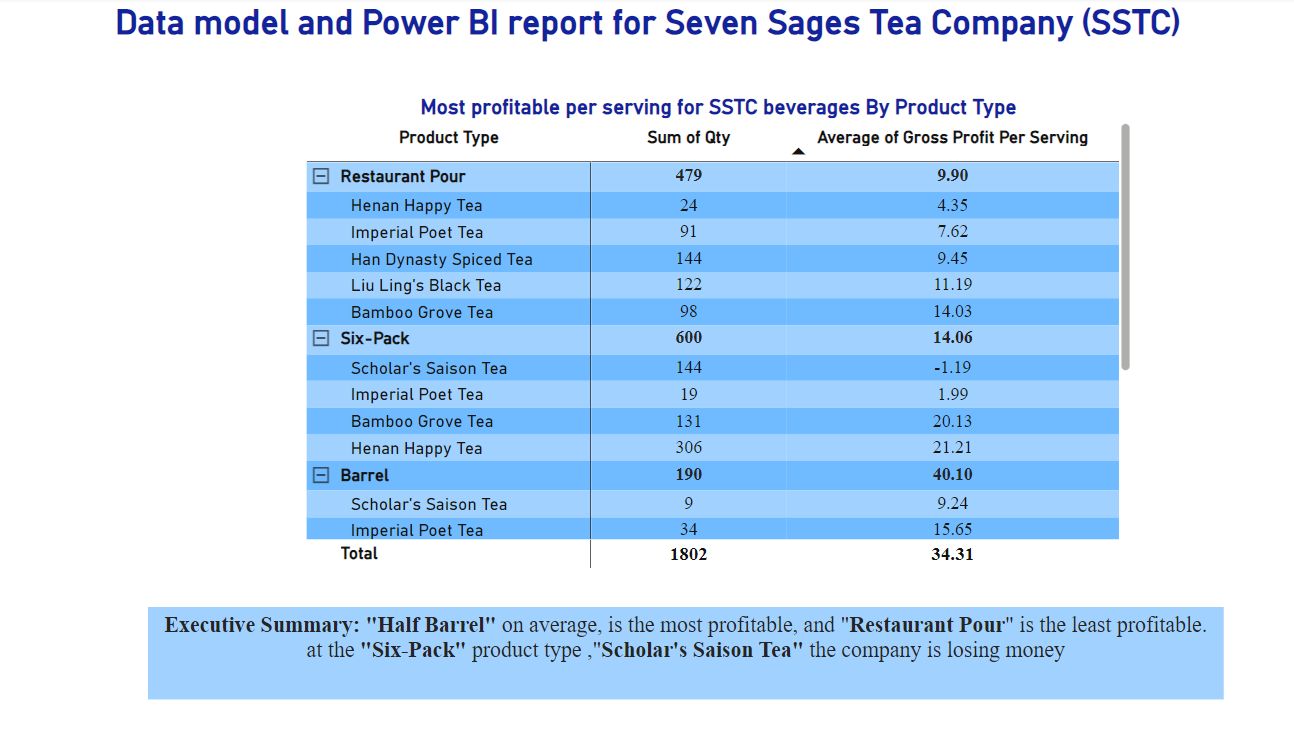

Layout of this report page (visuals, bound fields, positions):
{"tool":"powerbi","page":{"name":"SO1 - Product Type","canvas":[1280,720],"ordinal":2},"visuals":[{"type":"pivotTable","title":"Most profitable per serving for SSTC beverages By Product Type","fields":{"Values":["Sum(Monthly Sales Logs.Qty)","Avg(Monthly Sales Logs.Gross Profit Per Serving)"],"Rows":["Product.Product Type","Product.ProductName"]},"box":[301.7,95,815,468.3],"z":0},{"type":"textbox","box":[151.7,596.7,1051.7,90],"z":1000},{"type":"textbox","box":[0,0,1280,95],"z":2000}]}

Visuals, with their boxes in screenshot pixels (x1, y1, x2, y2), scaled from the page's 1280x720 canvas onto the 1294x729 screenshot:
"Most profitable per serving for SSTC beverages By Product Type" pivotTable: (305, 96, 1129, 570)
textbox: (153, 604, 1217, 695)
textbox: (0, 0, 1293, 96)
